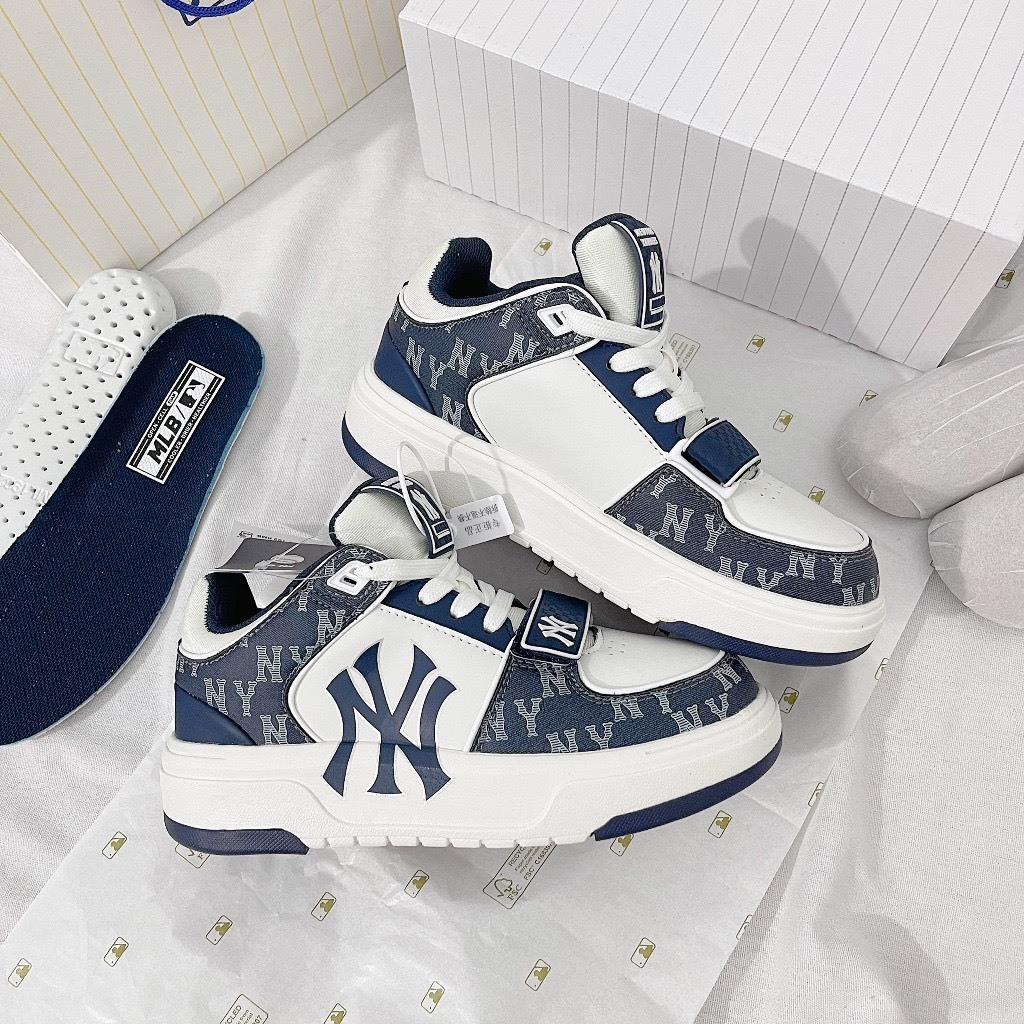sneakers: (339, 213, 882, 667), (158, 477, 785, 857)
